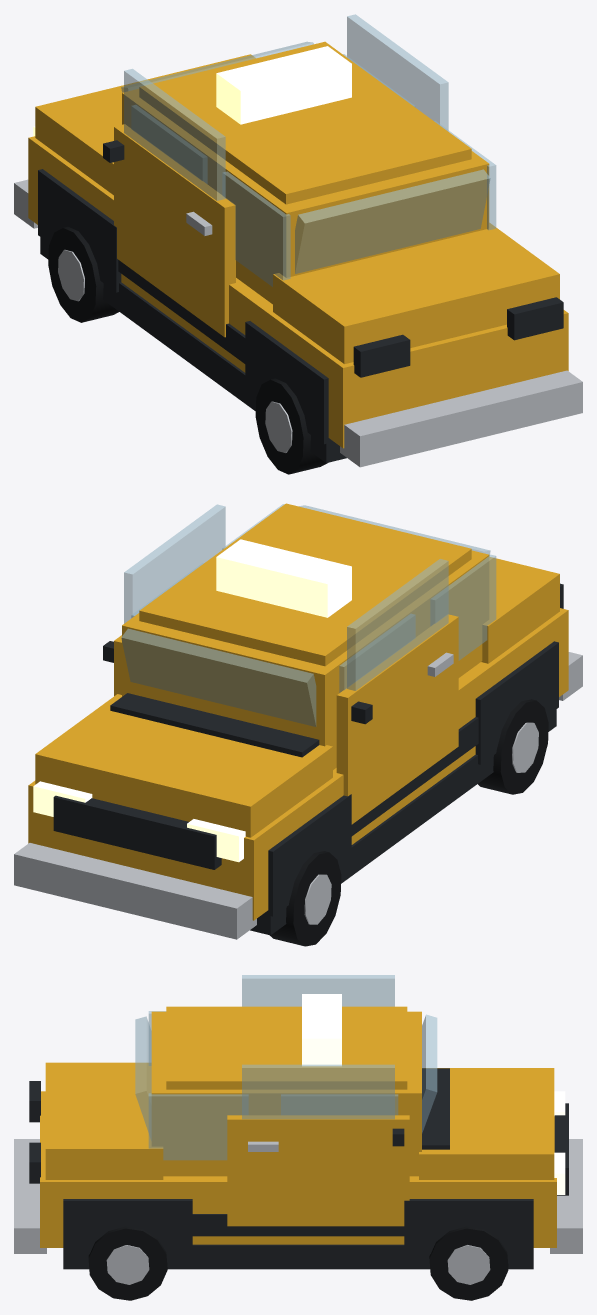
File: taxi.glb
The picture shows the model from 3 angles, top to bottom: view 1: azimuth 30°, elevation 25°; view 2: azimuth 150°, elevation 25°; view 3: azimuth 270°, elevation 25°; orthographic projection. The views are drawn at different scales.
Visible parts, largest first — view 1: MAT_TaxiPaint (×2), MAT_Glass (×3), MAT_Trim (×3), MAT_Chrome (×3), MAT_Light, MAT_Tyre (×2); view 2: MAT_TaxiPaint (×2), MAT_Glass (×3), MAT_Trim, MAT_Chrome (×3), MAT_Light (×3), MAT_Tyre (×2); view 3: MAT_TaxiPaint (×2), MAT_Trim (×3), MAT_Glass (×3), MAT_Chrome (×3), MAT_Tyre (×2), MAT_Light (×2).
Boxes of the visible parts, box(x1,y1,x2,y2) form: MAT_TaxiPaint (×2): box(28, 41, 568, 448); MAT_Glass (×3): box(121, 14, 496, 286); MAT_Trim (×3): box(38, 140, 563, 462); MAT_Chrome (×3): box(14, 179, 582, 467); MAT_Light: box(216, 46, 351, 124); MAT_Tyre (×2): box(48, 226, 327, 474); MAT_TaxiPaint (×2): box(28, 503, 568, 920); MAT_Glass (×3): box(121, 504, 496, 726); MAT_Trim: box(53, 641, 558, 935); MAT_Chrome (×3): box(14, 652, 582, 939); MAT_Light (×3): box(33, 539, 351, 862); MAT_Tyre (×2): box(270, 699, 548, 946); MAT_TaxiPaint (×2): box(40, 1006, 556, 1247); MAT_Trim (×3): box(29, 1068, 568, 1269); MAT_Glass (×3): box(135, 975, 437, 1160); MAT_Chrome (×3): box(14, 1139, 582, 1284); MAT_Tyre (×2): box(88, 1226, 508, 1300); MAT_Light (×2): box(302, 994, 565, 1194).
Size of the model in its own units: 2.12 by 2.21 by 4.84.
